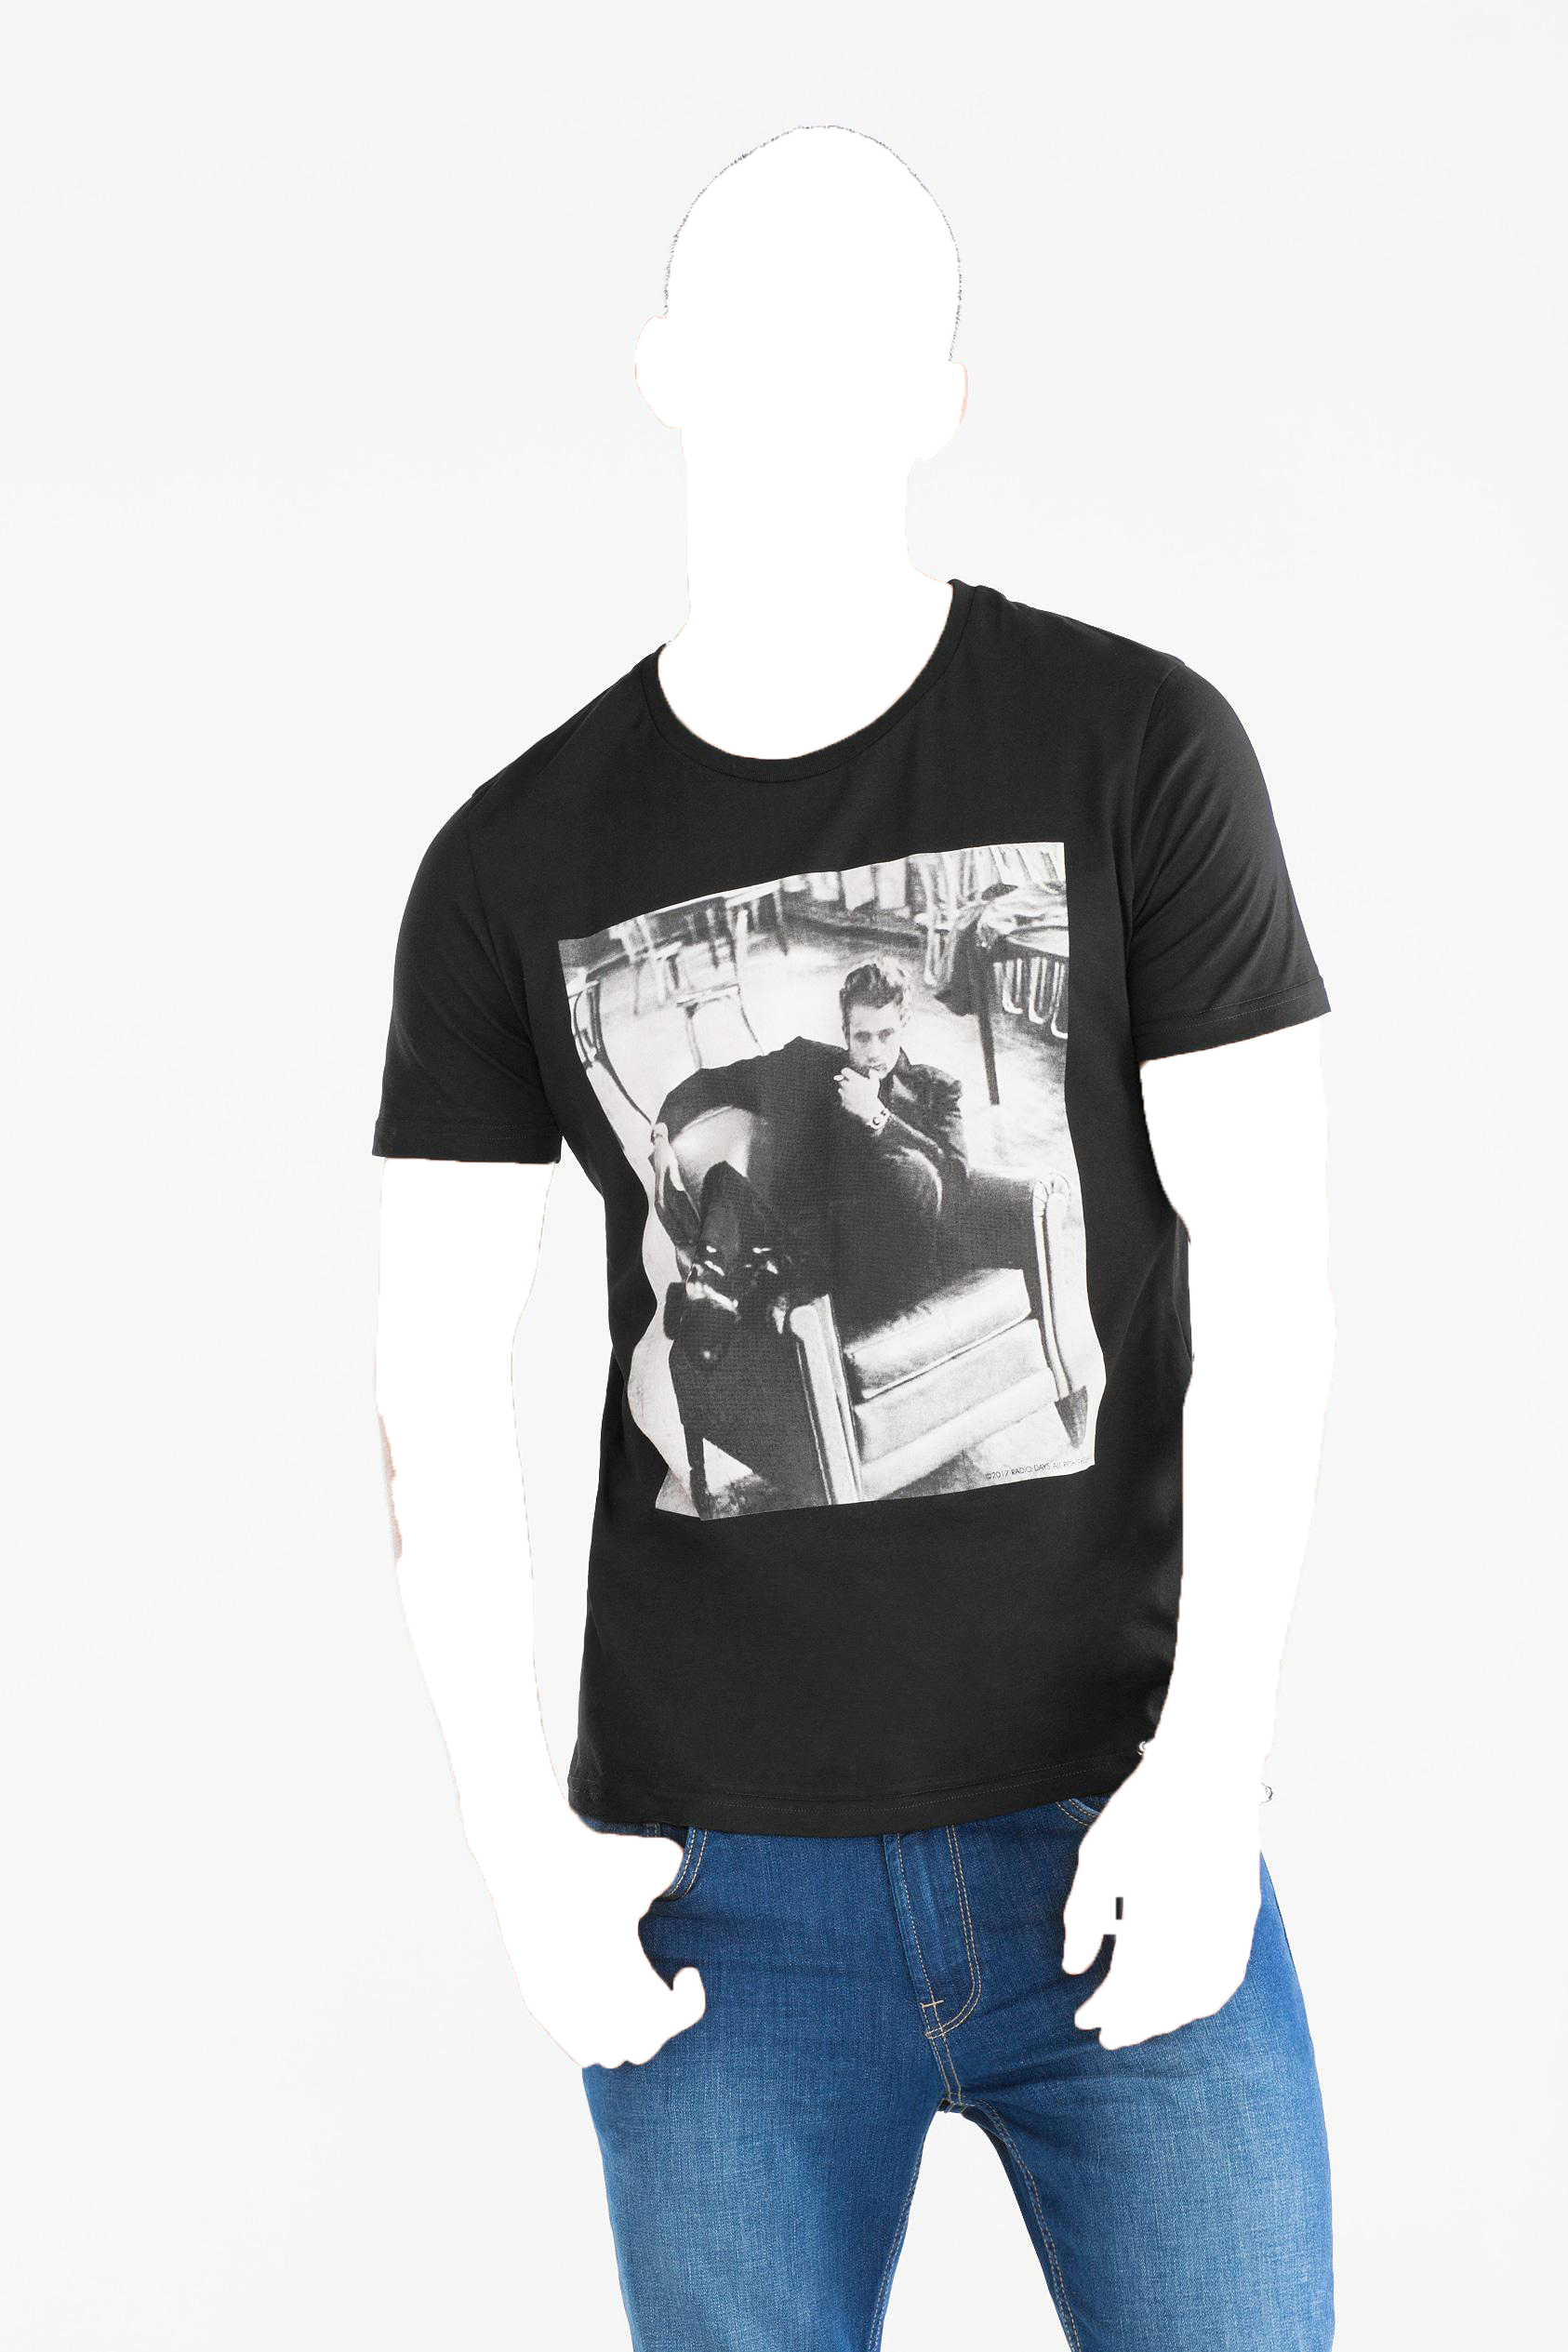teeshirt: (364, 579, 1333, 1834)
